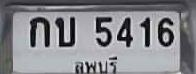1: (140, 16, 149, 46)
4: (116, 16, 132, 46)
5: (95, 16, 111, 46)
6: (157, 17, 173, 46)
A01: (29, 16, 49, 47)
A26: (54, 16, 74, 46)
LRI: (70, 53, 120, 74)
